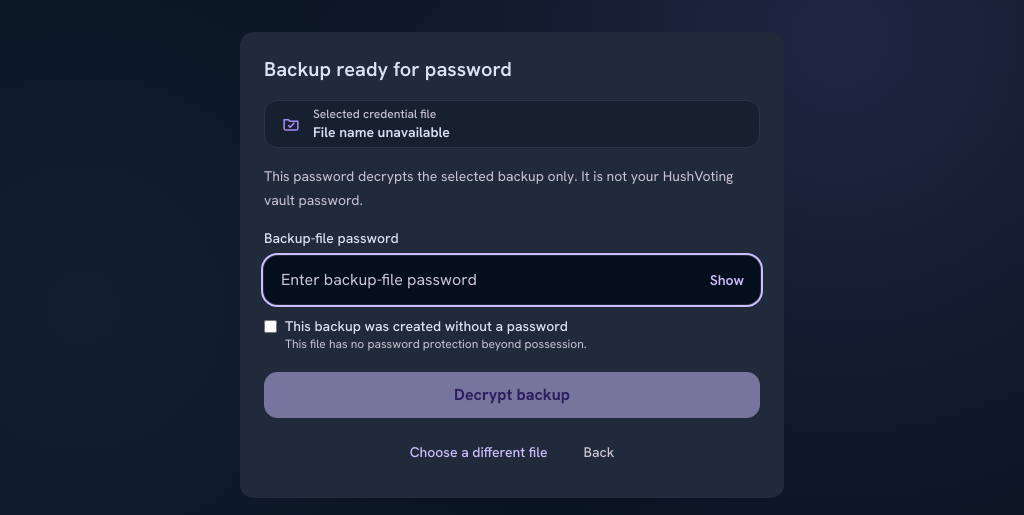
Scenario: FEAT-009 password surface (Task 5.3) › keeps Decrypt backup disabled until a password is entered
expect the button with test id "submit-password" is disabled: met, box [264,372,760,418]
Type "public-test-password" into the password field with test id "backup-password-input". click: x=512, y=280
box: [264,256,760,304]
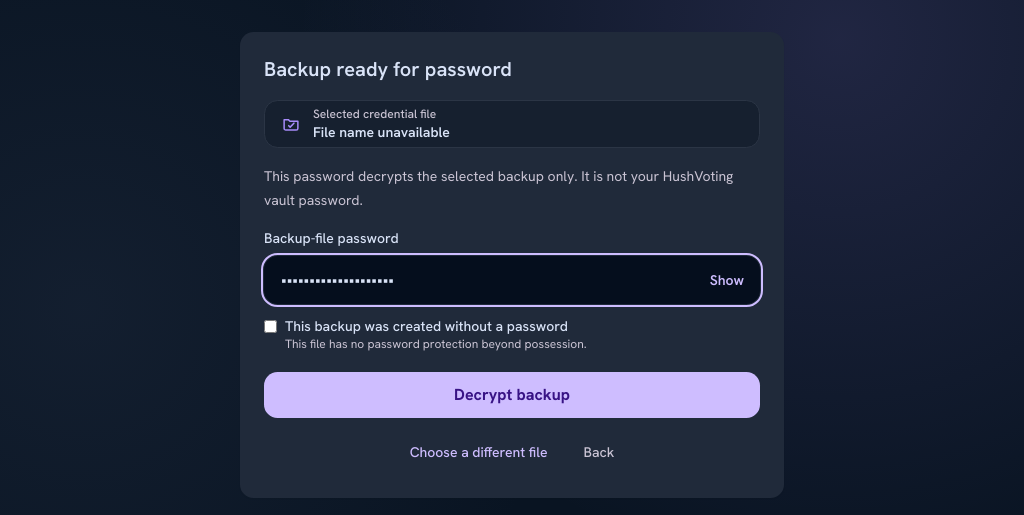
expect the button with test id "submit-password" is enabled: met, box [264,372,760,418]
Clear the password field with test id "backup-password-input". click: x=512, y=280
box: [264,256,760,304]
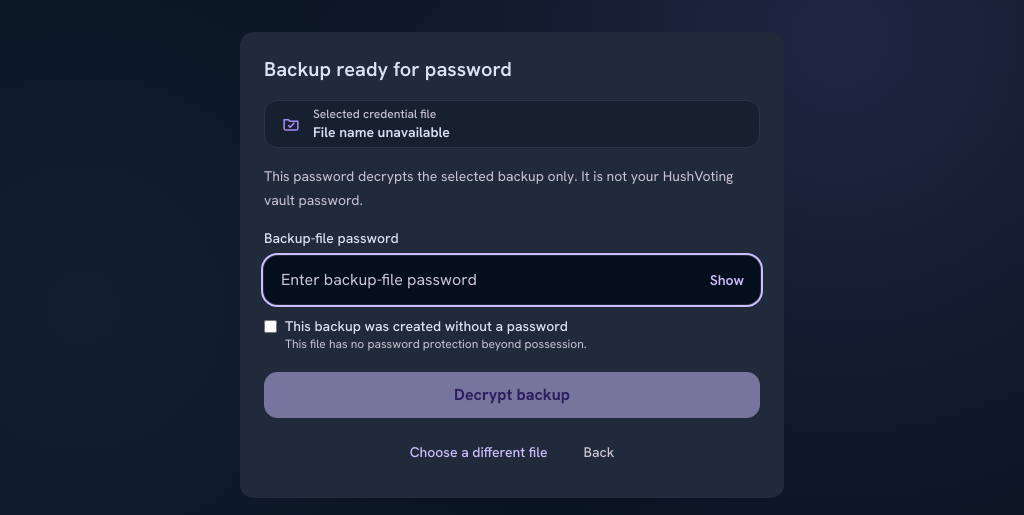
expect the button with test id "submit-password" is disabled: met, box [264,372,760,418]
